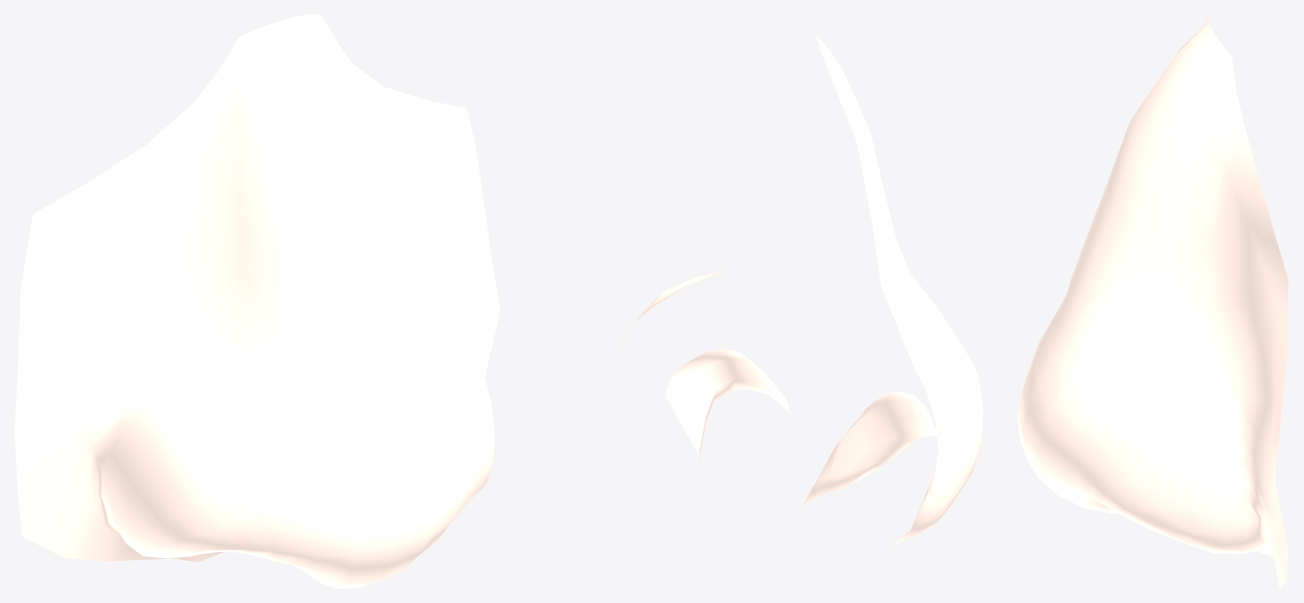
File: nose_05.glb
3 views of the same model, side by side, from view 1: azimuth 30°, elevation 25°; view 2: azimuth 150°, elevation 25°; view 3: azimuth 270°, elevation 25° (orthographic). The views are drawn at different scales.
Parts seen in each view (by area): view 1: nose_05; view 2: nose_05; view 3: nose_05.
Part boxes in pixels (left/top/right/bottom): nose_05: left=14, top=14, right=500, bottom=588; nose_05: left=610, top=34, right=983, bottom=545; nose_05: left=1017, top=16, right=1288, bottom=588.
Bounding box in the file's own units: 0.000982 × 0.00109 × 0.000515.
